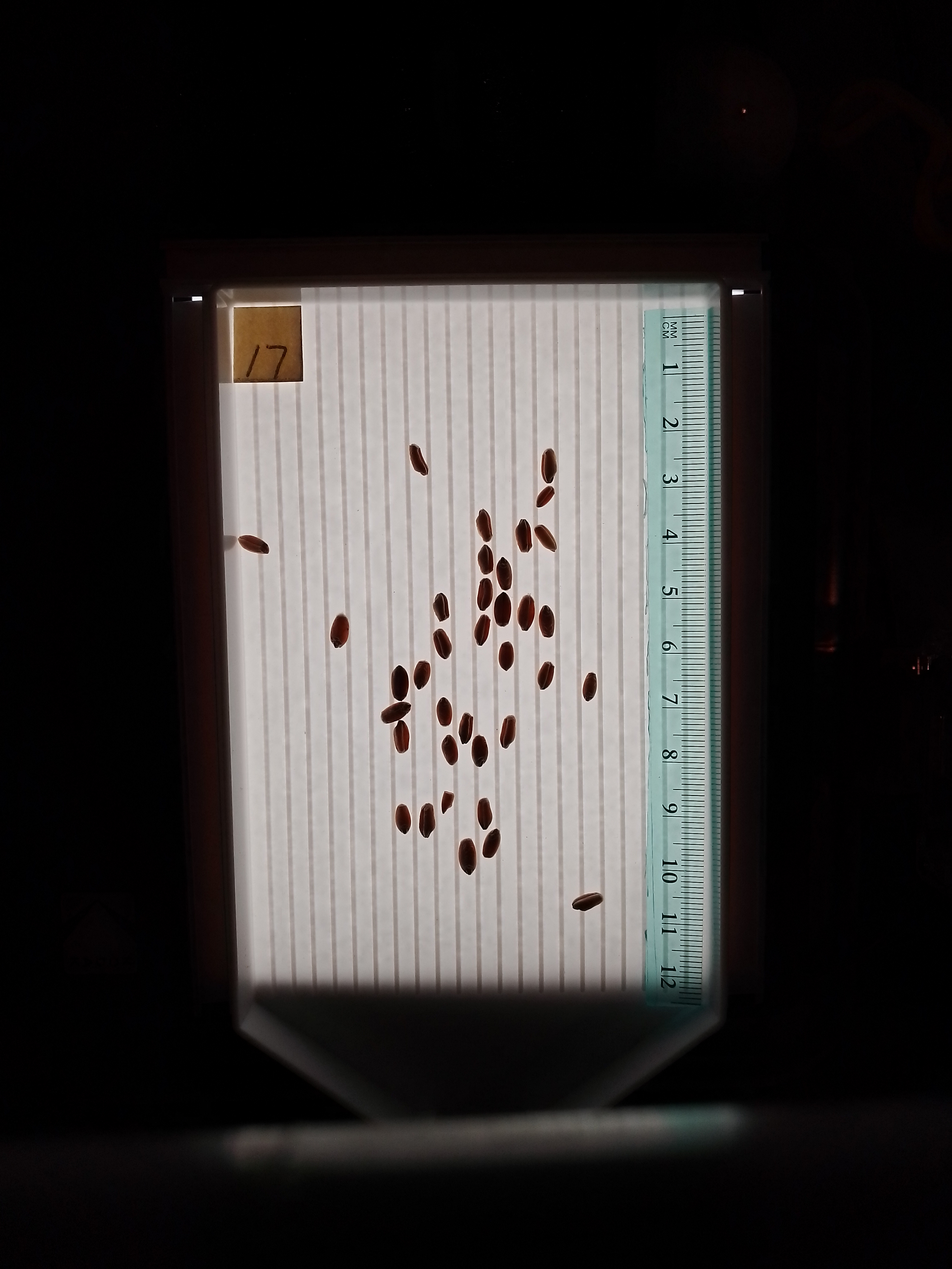seed mask: (330, 615, 349, 648), (459, 838, 476, 874), (391, 666, 409, 700), (238, 535, 268, 555), (518, 596, 535, 631), (535, 525, 557, 551), (409, 445, 428, 475), (572, 892, 602, 911), (494, 595, 512, 626), (381, 704, 410, 723), (516, 519, 532, 553), (433, 630, 452, 658), (541, 449, 557, 482), (419, 804, 435, 837), (500, 716, 516, 748), (539, 606, 555, 637), (477, 798, 493, 829), (497, 558, 512, 590), (474, 615, 490, 645), (472, 736, 488, 766), (393, 723, 409, 753), (483, 830, 500, 858), (477, 579, 492, 610), (477, 510, 492, 540), (395, 805, 411, 833), (442, 736, 458, 764), (437, 698, 453, 726), (414, 661, 430, 689), (478, 546, 493, 574), (538, 663, 554, 689), (433, 594, 449, 620), (459, 714, 473, 743), (582, 674, 597, 701), (499, 644, 514, 670), (537, 487, 554, 508), (442, 793, 453, 812)
